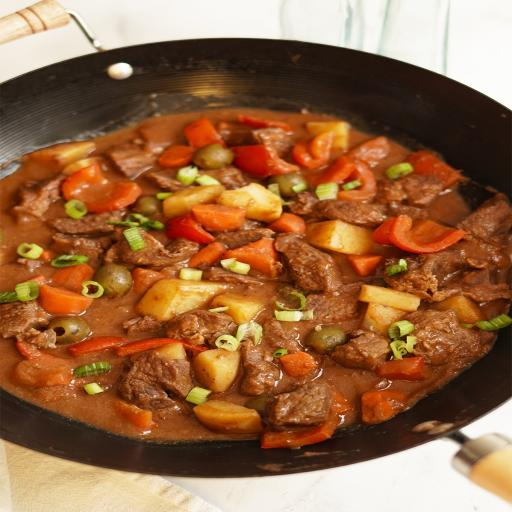pork caldereta: (0, 100, 512, 455)
